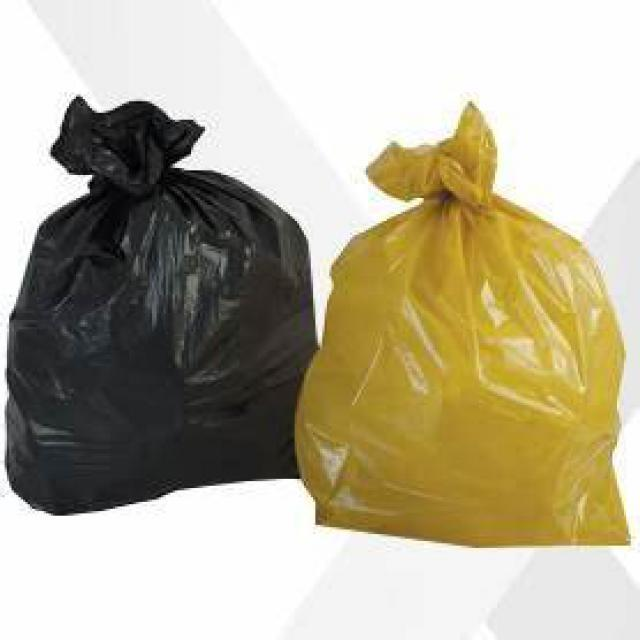waste: (310, 119, 626, 548), (8, 86, 316, 507)
